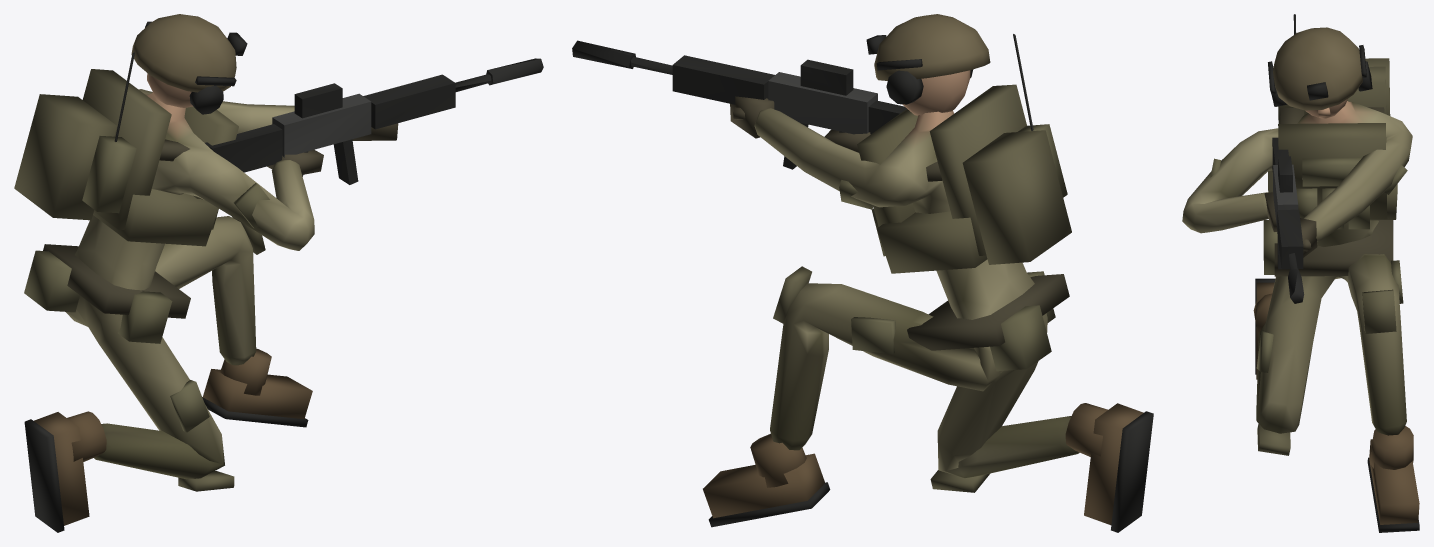
Rendered from soldier_kneel_nato.glb.
3 renders of one model, left to right at view 1: azimuth 30°, elevation 25°; view 2: azimuth 150°, elevation 25°; view 3: azimuth 270°, elevation 25°, orthographic. The views are drawn at different scales.
Visible parts, largest first — view 1: soldier; view 2: soldier; view 3: soldier.
Part boxes in pixels (x1=…): soldier: x1=14, y1=14, x2=543, y2=532; soldier: x1=572, y1=14, x2=1153, y2=532; soldier: x1=1182, y1=14, x2=1419, y2=532.
Bounding box in the file's own units: 1.5 × 1.3 × 0.6527.
